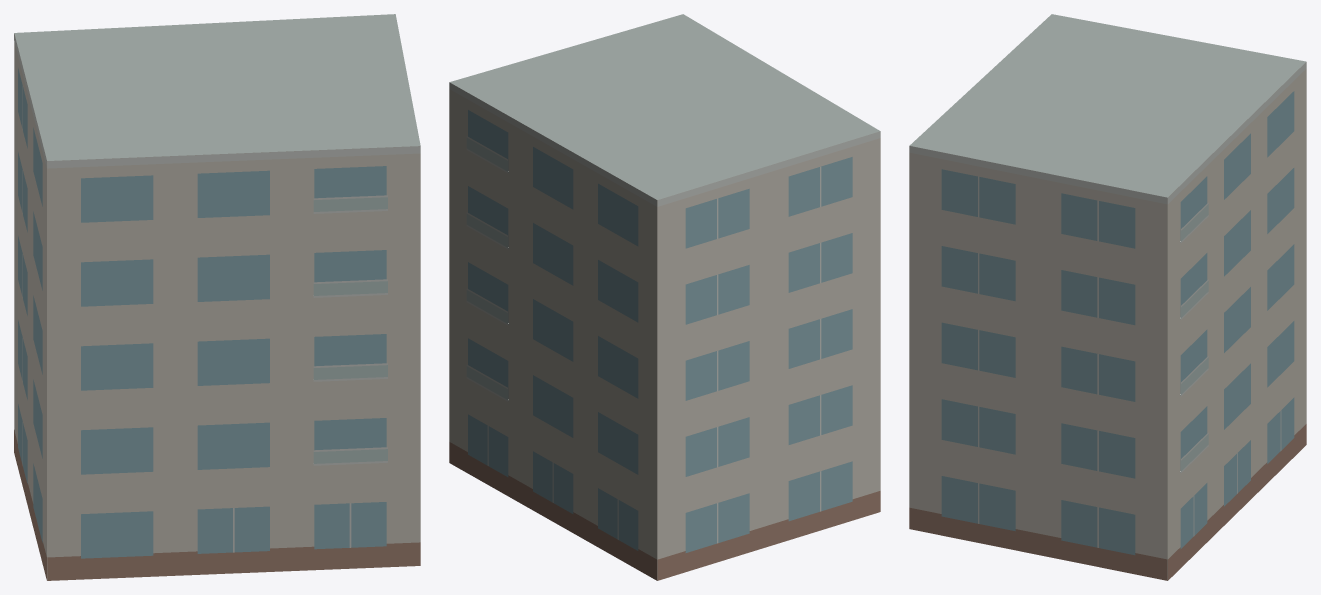
The model's file is survey-upis-32996869.glb.
3 renders of one model, left to right at view 1: azimuth 30°, elevation 25°; view 2: azimuth 150°, elevation 25°; view 3: azimuth 270°, elevation 25°, orthographic. The views are drawn at different scales.
Parts seen in each view (by area): view 1: survey-upis-32996869.tmp; view 2: survey-upis-32996869.tmp; view 3: survey-upis-32996869.tmp.
Part boxes in pixels (x1,y1,x2,y2): survey-upis-32996869.tmp: (14,14,420,580); survey-upis-32996869.tmp: (449,14,880,580); survey-upis-32996869.tmp: (909,14,1306,580).
Bounding box in the file's own units: 14.08 × 13.7 × 12.88.
